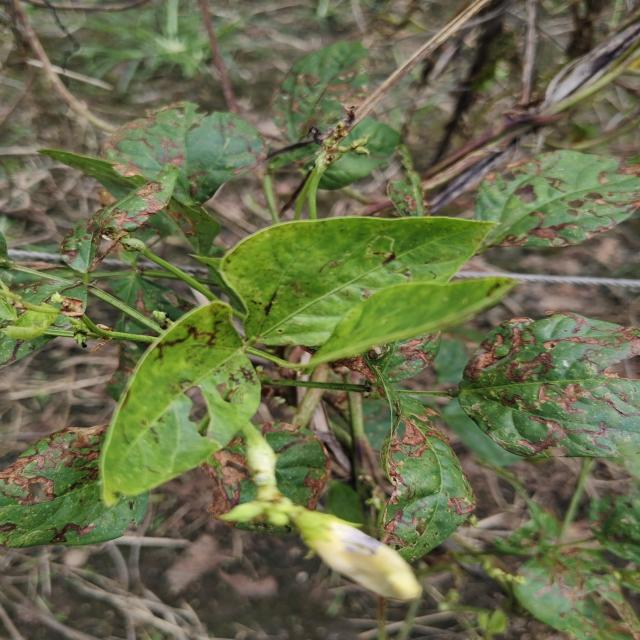leaf-moderate: (64, 102, 268, 255), (457, 313, 640, 458), (0, 183, 157, 350), (475, 149, 640, 254), (0, 425, 135, 548), (382, 391, 476, 559)
sitaw-aphid-low: (221, 217, 486, 347), (99, 300, 261, 509)
